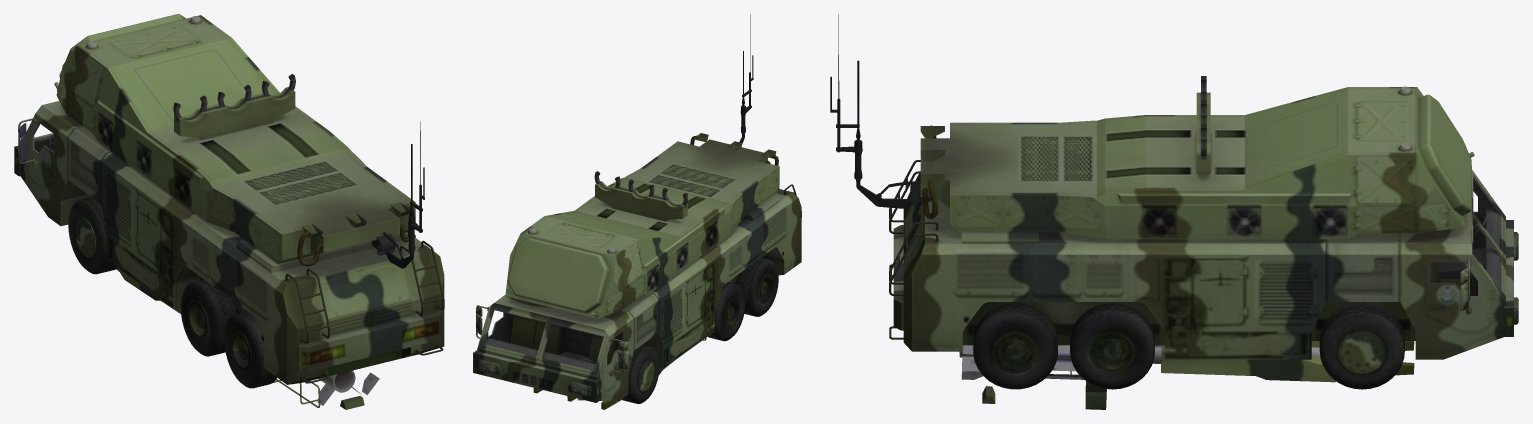
File: khordad.glb
The picture shows the model from 3 angles, left to right: view 1: azimuth 30°, elevation 25°; view 2: azimuth 150°, elevation 25°; view 3: azimuth 270°, elevation 25°; orthographic projection. The views are drawn at different scales.
Visible parts, largest first — view 1: body|object_0, missile|object_0 (×2); view 2: body|object_0; view 3: body|object_0, cradle|object_0, missile|object_0.
Boxes of the visible parts, box(x1,y1,x2,y2) form: body|object_0: box(14, 14, 444, 388); missile|object_0 (×2): box(273, 370, 379, 409); body|object_0: box(473, 14, 801, 403); body|object_0: box(830, 14, 1518, 389); cradle|object_0: box(1161, 341, 1414, 382); missile|object_0: box(959, 345, 1106, 409).
Bounding box in the file's own units: 3.59 × 6.04 × 9.69.
Materials: 5 (4 with a texture image).
